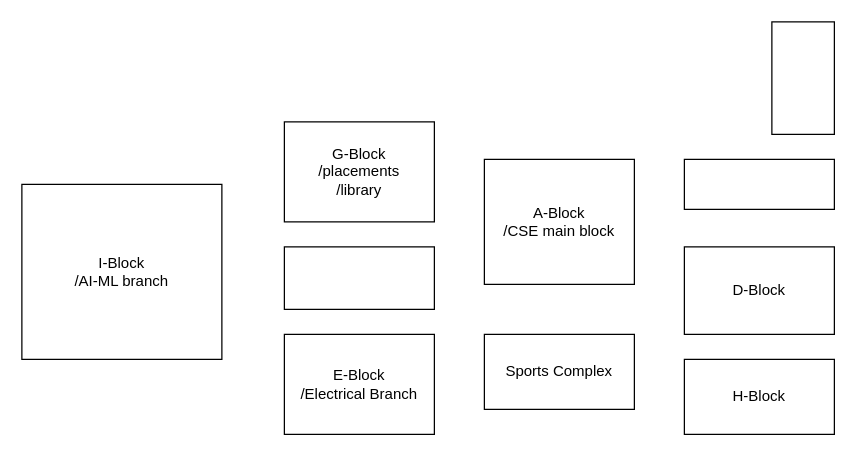
The diagram is 856 pixels wide and 456 high, and some of its shapes have lost their labels. Each missing label, with the centre of its shape:
"B-Block /pharmacy" goes at pixel 758 183.
"c-Block" goes at pixel 802 77.
"F-Block /examination branch" goes at pixel 358 277.
